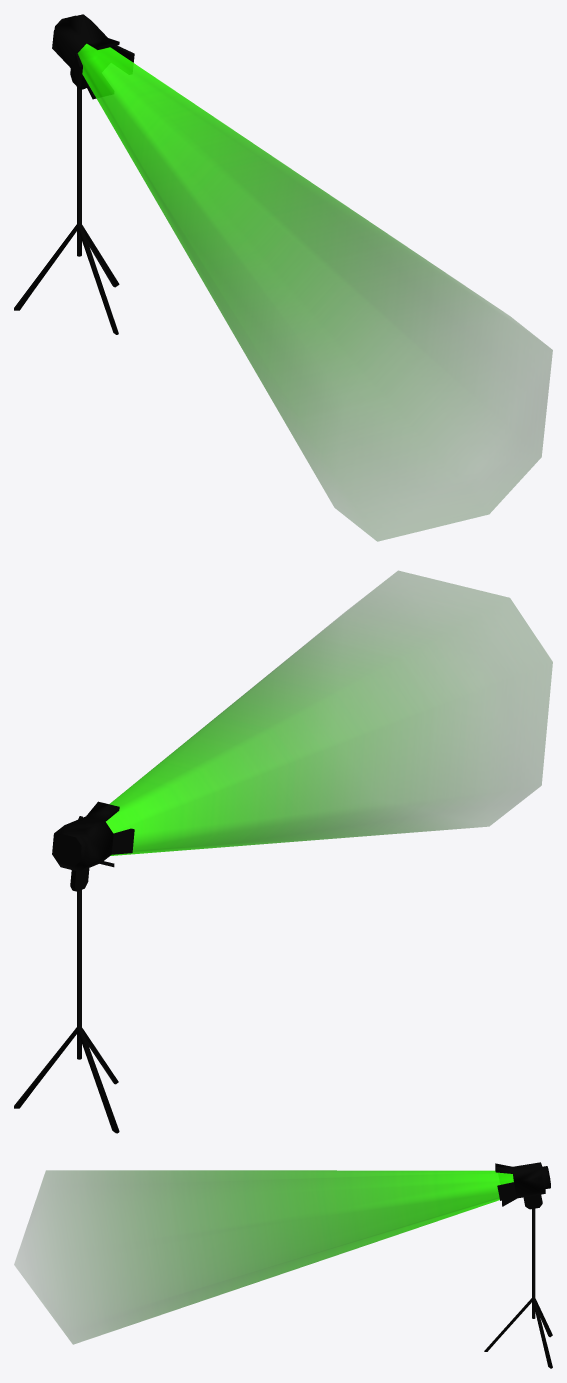
The model's file is LightingStandOnGreen.glb.
3 renders of one model, top to bottom at view 1: azimuth 30°, elevation 25°; view 2: azimuth 150°, elevation 25°; view 3: azimuth 270°, elevation 25°, orthographic. The views are drawn at different scales.
Parts seen in each view (by area): view 1: LightingStandOnGreen; view 2: LightingStandOnGreen; view 3: LightingStandOnGreen.
Part boxes in pixels (<box>): LightingStandOnGreen: <box>14,14,552,541</box>; LightingStandOnGreen: <box>14,571,552,1133</box>; LightingStandOnGreen: <box>14,1162,552,1368</box>.
Bounding box in the file's own units: 2.58 × 3.41 × 8.91.
2 materials, 2 textured.
